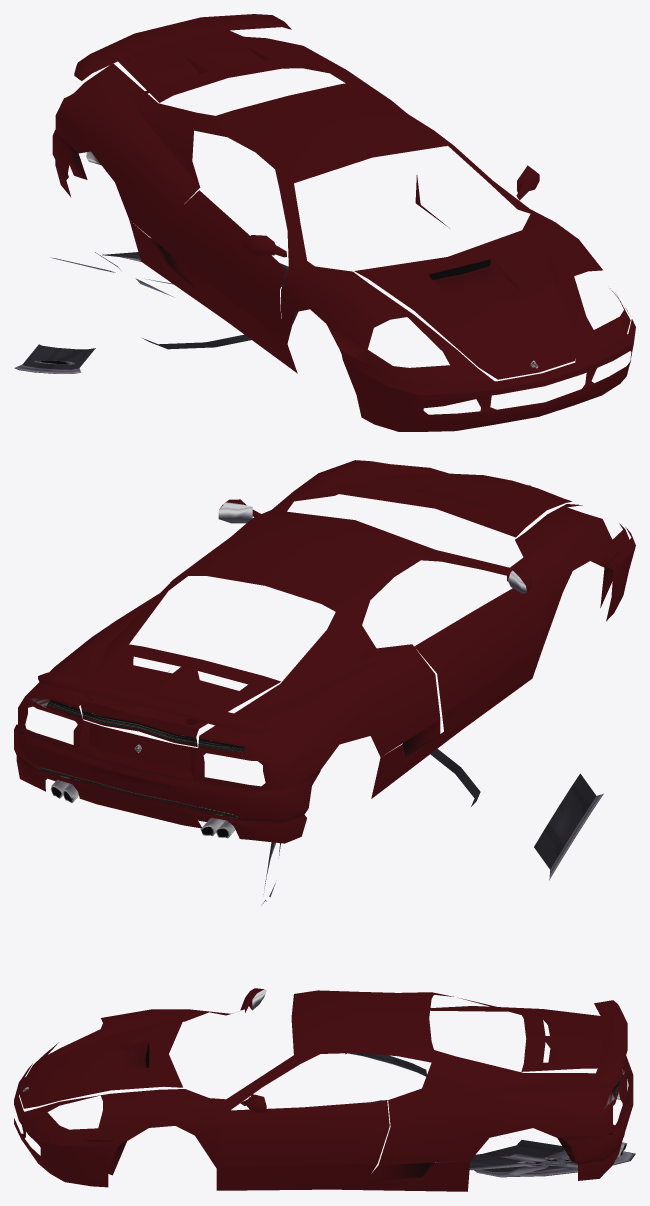
Rendered from car-SUPR_Car1.glb.
3 renders of one model, top to bottom at view 1: azimuth 30°, elevation 25°; view 2: azimuth 150°, elevation 25°; view 3: azimuth 270°, elevation 25°, orthographic. The views are drawn at different scales.
Parts seen in each view (by area): view 1: SUPR_Car1; view 2: SUPR_Car1; view 3: SUPR_Car1.
Boxes of the visible parts, x1=… form: SUPR_Car1: x1=14, y1=14, x2=635, y2=431; SUPR_Car1: x1=14, y1=460, x2=635, y2=905; SUPR_Car1: x1=14, y1=988, x2=635, y2=1191.
Bounding box in the file's own units: 2.98 × 1.66 × 4.71.
10 materials, 10 textured.
